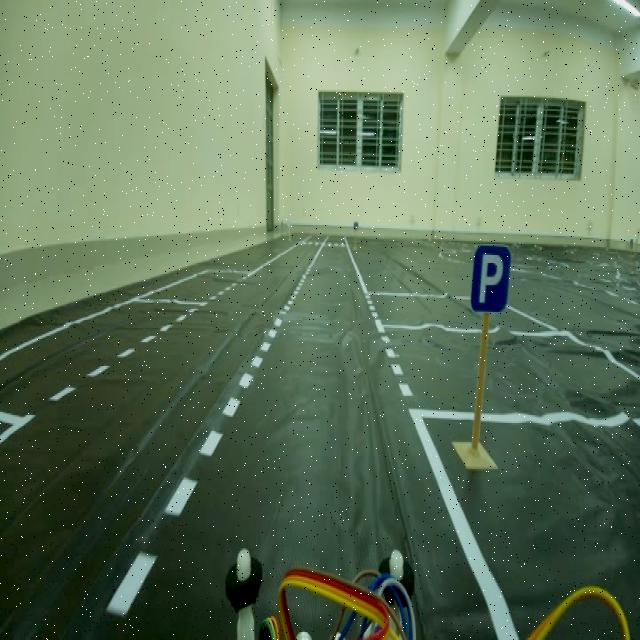parking: (470, 239, 513, 322)
